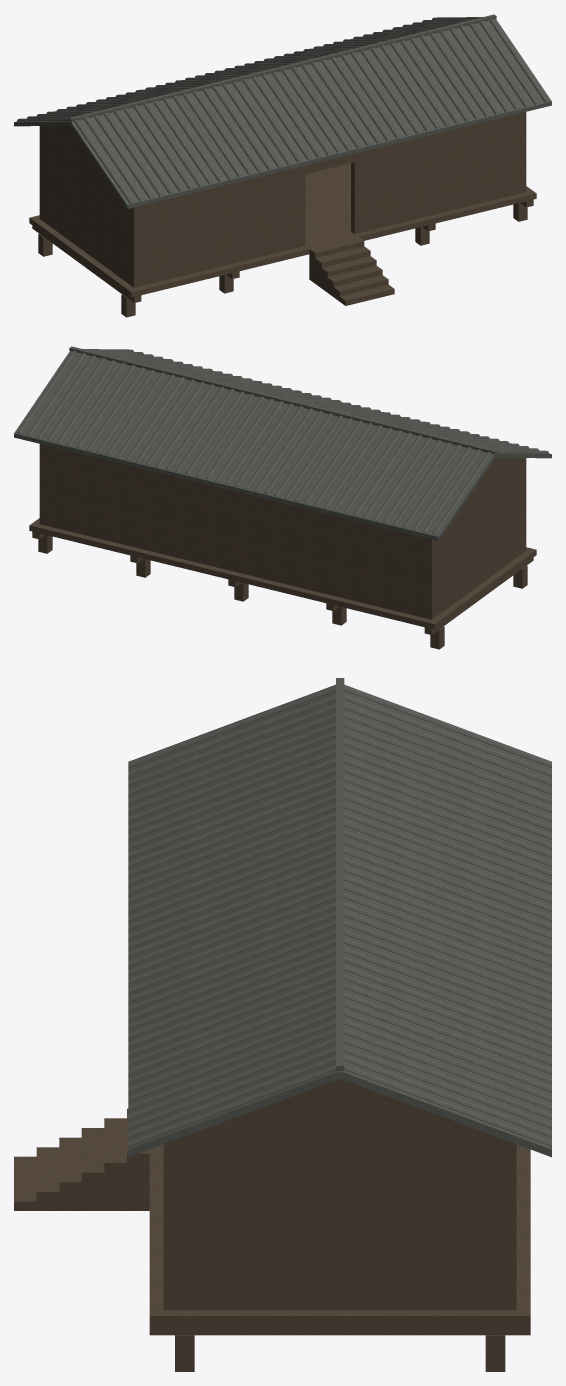
File: granary-B-LOD0.glb
The picture shows the model from 3 angles, top to bottom: view 1: azimuth 30°, elevation 25°; view 2: azimuth 150°, elevation 25°; view 3: azimuth 270°, elevation 25°; orthographic projection. The views are drawn at different scales.
Parts seen in each view (by area): view 1: granary-B-static_timber, granary-B-static_tile; view 2: granary-B-static_tile, granary-B-static_timber; view 3: granary-B-static_tile, granary-B-static_timber.
Boxes of the visible parts, bbox=[...] form: granary-B-static_timber: bbox=[29, 112, 536, 317]; granary-B-static_tile: bbox=[14, 14, 551, 208]; granary-B-static_tile: bbox=[14, 346, 551, 540]; granary-B-static_timber: bbox=[29, 444, 536, 649]; granary-B-static_tile: bbox=[128, 678, 551, 1157]; granary-B-static_timber: bbox=[14, 1079, 530, 1371].
Size of the model in its own units: 13 by 4.95 by 7.62.
Materials: 3 (2 with a texture image).
